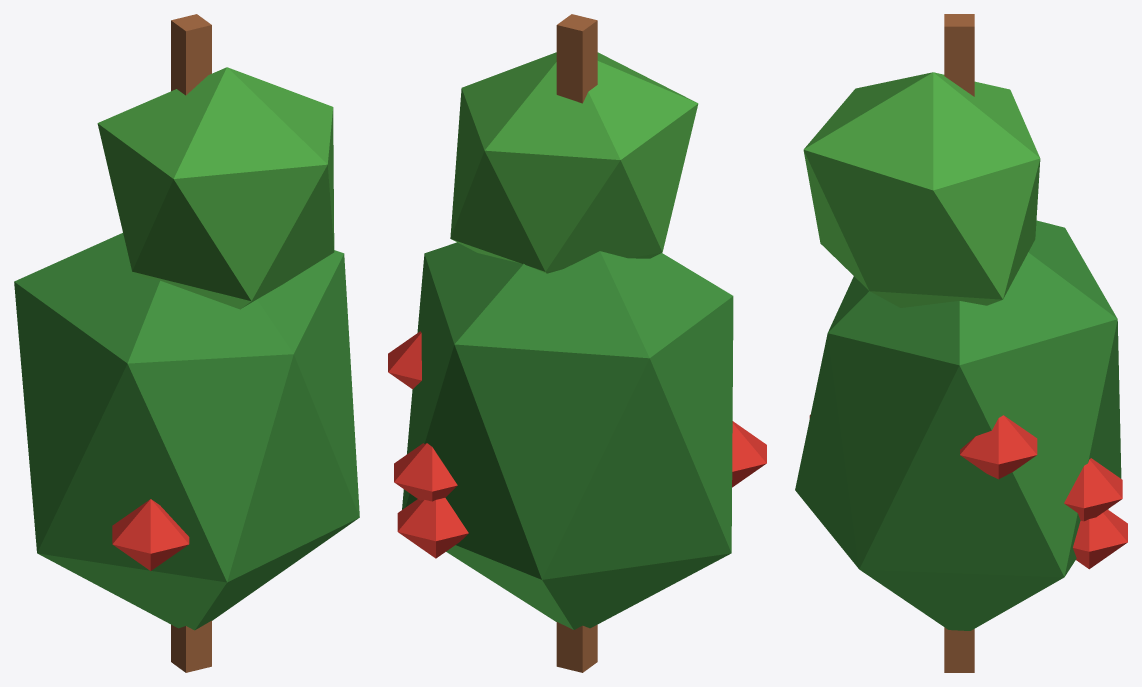
Rendered from Crop_Tomato.fbx.
3 views of the same model, side by side, from view 1: azimuth 30°, elevation 25°; view 2: azimuth 150°, elevation 25°; view 3: azimuth 270°, elevation 25° (orthographic).
Visible parts, largest first — view 1: Tomato_Vine, Tomato_Fruit; view 2: Tomato_Vine, Tomato_Fruit; view 3: Tomato_Vine, Tomato_Fruit.
Part boxes in pixels (<box>): Tomato_Vine: <box>14,14,359,672</box>; Tomato_Fruit: <box>112,499,189,570</box>; Tomato_Vine: <box>402,14,733,672</box>; Tomato_Fruit: <box>388,331,766,558</box>; Tomato_Vine: <box>795,14,1121,672</box>; Tomato_Fruit: <box>809,415,1127,569</box>.
Bounding box in the file's own units: 0.7174 × 1.36 × 0.6338.
